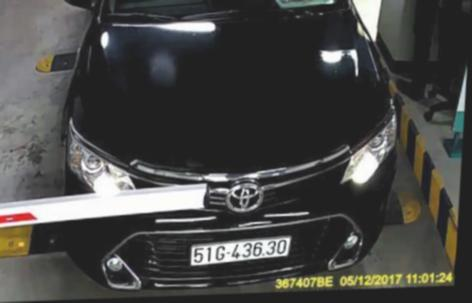License_Plate: (186, 232, 297, 266)
